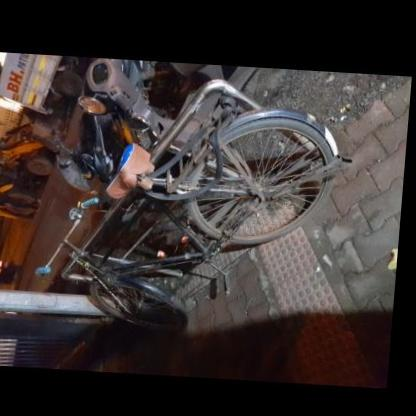Bicycle: (0, 69, 364, 331)
